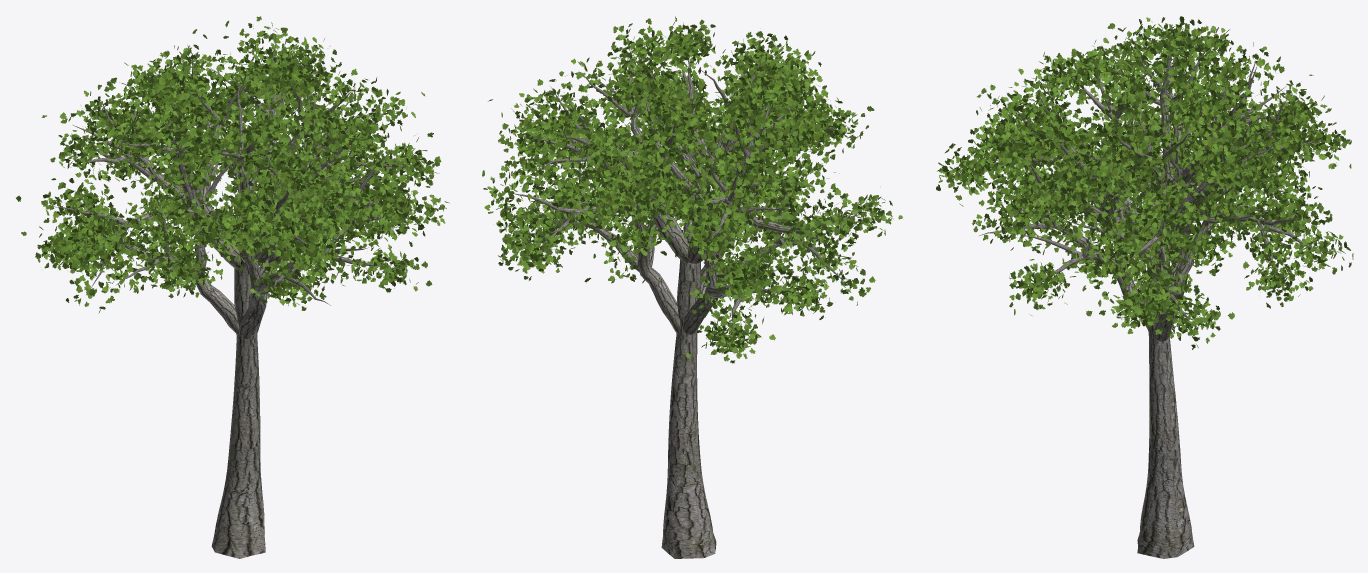
3 views of the same model, side by side, from view 1: azimuth 30°, elevation 25°; view 2: azimuth 150°, elevation 25°; view 3: azimuth 270°, elevation 25° (orthographic).
Visible parts, largest first — view 1: Fresno foliage cards, Fresno_EasyTree_V020_Proof; view 2: Fresno foliage cards, Fresno_EasyTree_V020_Proof; view 3: Fresno foliage cards, Fresno_EasyTree_V020_Proof.
Part boxes in pixels (left/top/right/bottom): Fresno foliage cards: left=16, top=16, right=449, bottom=313; Fresno_EasyTree_V020_Proof: left=54, top=36, right=421, bottom=558; Fresno foliage cards: left=482, top=16, right=902, bottom=363; Fresno_EasyTree_V020_Proof: left=514, top=39, right=861, bottom=558; Fresno foliage cards: left=936, top=16, right=1353, bottom=349; Fresno_EasyTree_V020_Proof: left=973, top=34, right=1327, bottom=558.
Size of the model in its own units: 7.83 by 9.5 by 7.21.
Materials: 2 (2 with a texture image).
